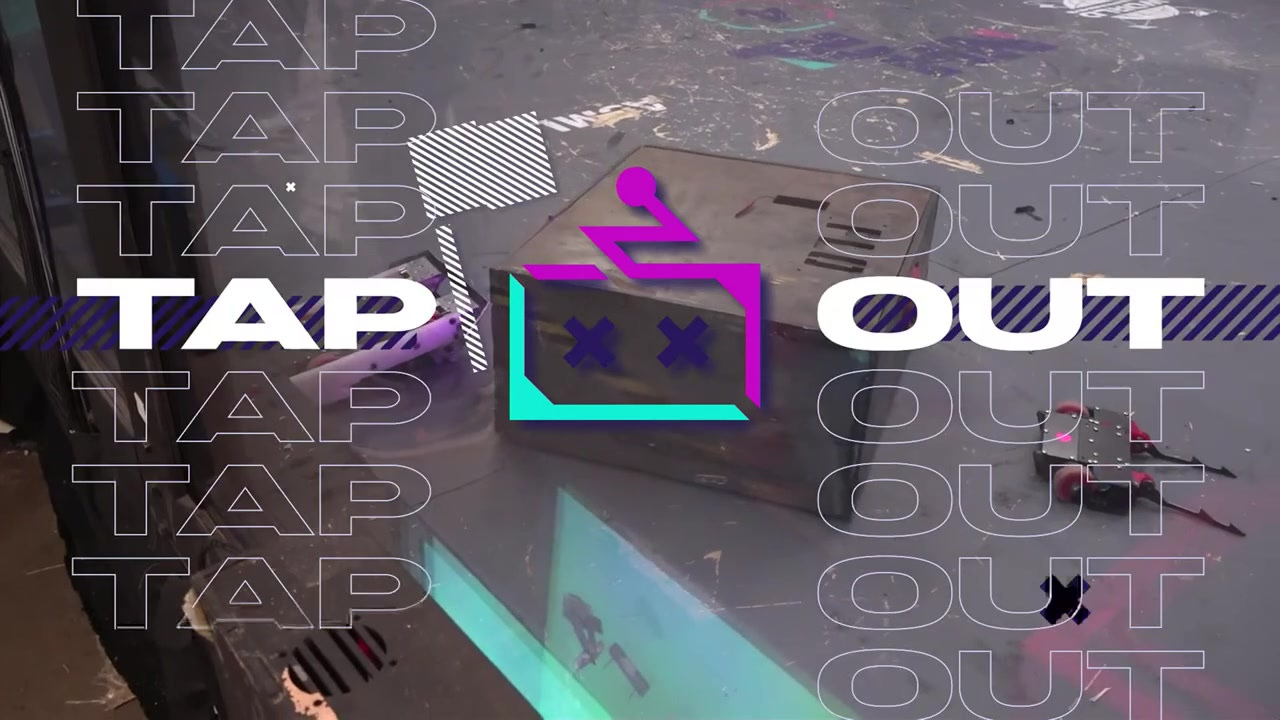combatbot: (290, 257, 460, 402)
housebot: (489, 145, 930, 521)
minibot: (1036, 404, 1144, 515)
